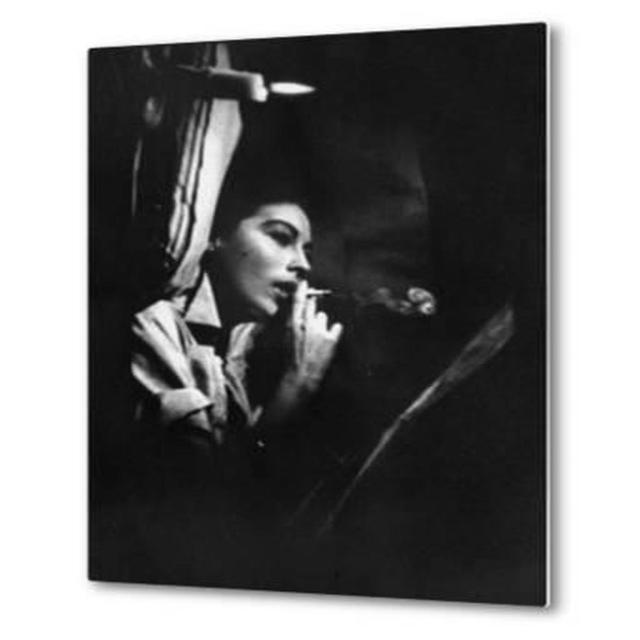smoking: (202, 186, 372, 360)
